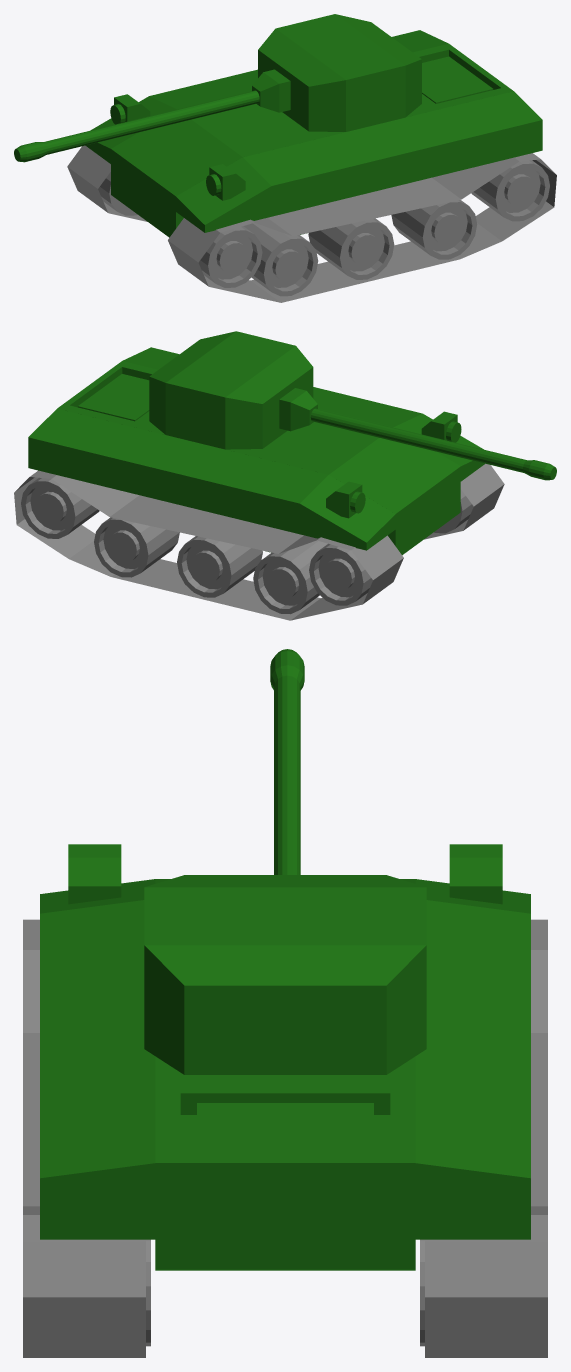
File: tank1.glb
3 renders of one model, top to bottom at view 1: azimuth 30°, elevation 25°; view 2: azimuth 150°, elevation 25°; view 3: azimuth 270°, elevation 25°, orthographic. The views are drawn at different scales.
Visible parts, largest first — view 1: Cube, Cylinder.004, Cube.001, Cube.002; view 2: Cube, Cylinder.004, Cube.001, Cube.002; view 3: Cube, Cube.001, Cylinder.004, Cube.002.
Part boxes in pixels (x1,y1,x2,y2): Cube: (85, 30, 542, 237); Cylinder.004: (67, 145, 556, 302); Cube.001: (258, 14, 421, 131); Cube.002: (14, 69, 290, 162); Cube: (28, 347, 484, 555); Cylinder.004: (14, 463, 504, 620); Cube.001: (149, 331, 313, 449); Cube.002: (279, 388, 556, 480); Cube: (40, 844, 530, 1270); Cube.001: (144, 875, 426, 1074); Cylinder.004: (23, 919, 547, 1357); Cube.002: (270, 649, 304, 874).
Bounding box in the file's own units: 14.84 × 5.31 × 7.12.
